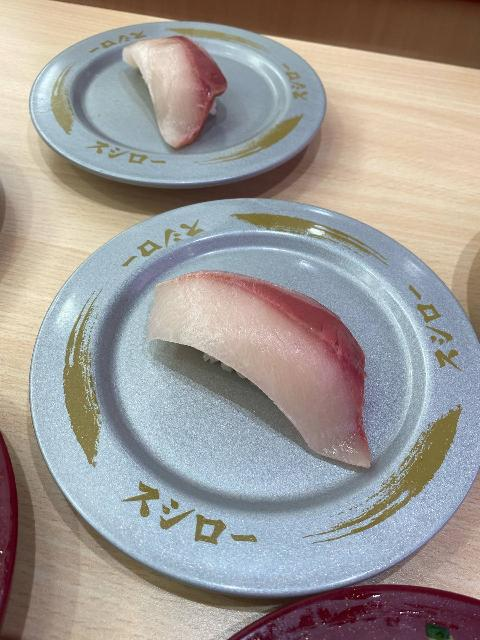janred: (247, 608, 480, 640)
janwhite: (33, 252, 480, 562), (52, 21, 316, 205)
